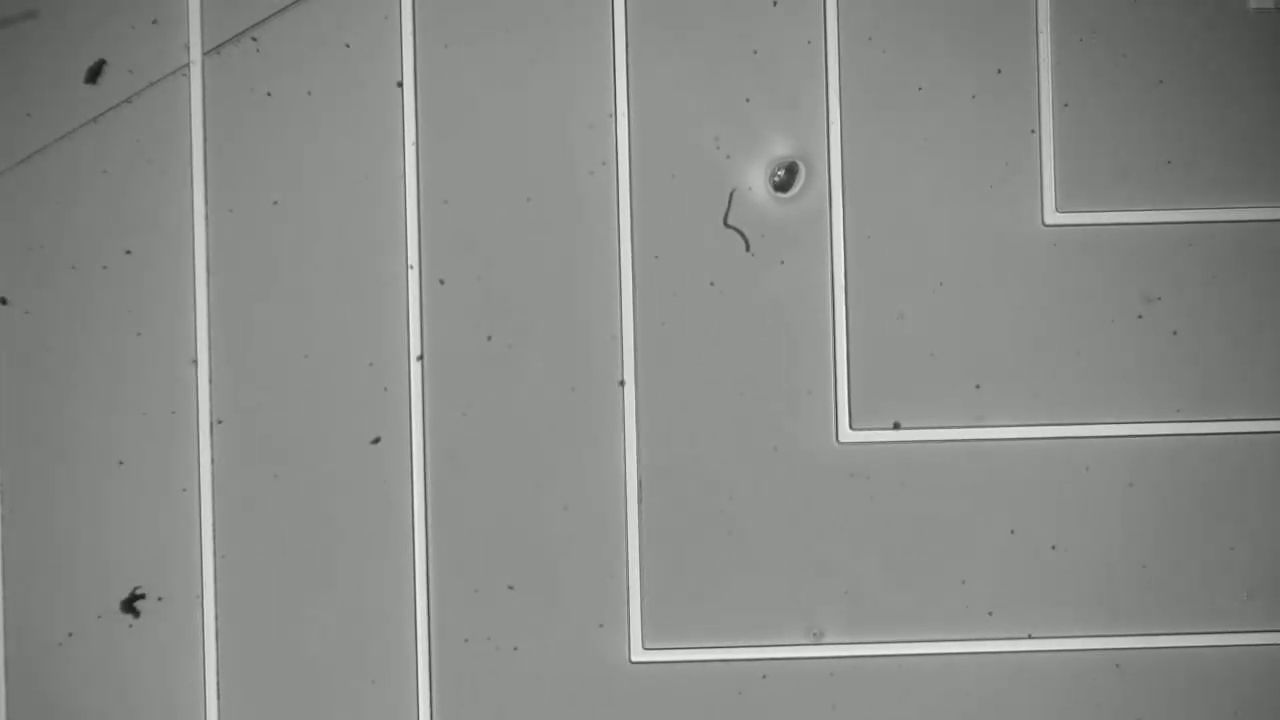scratch: (16, 1, 311, 187)
